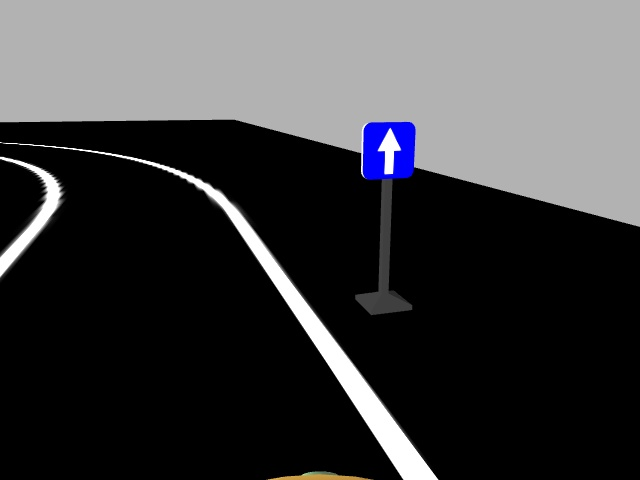OneWay: (360, 120, 413, 178)
